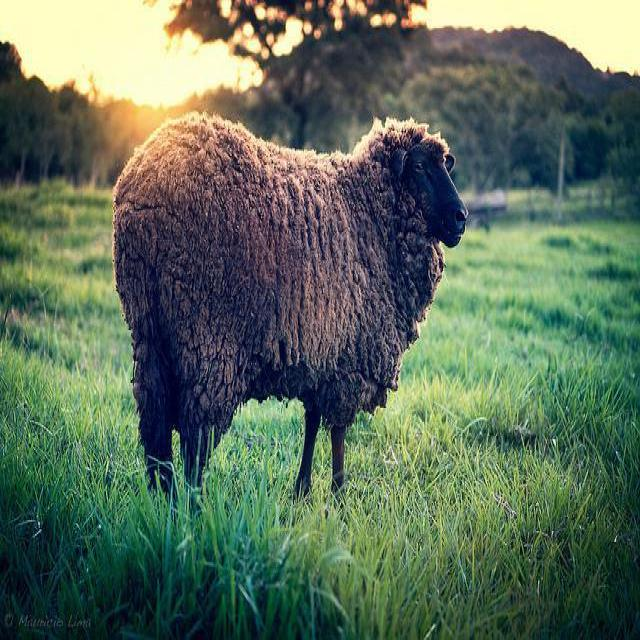Sheep: (109, 108, 479, 520)
